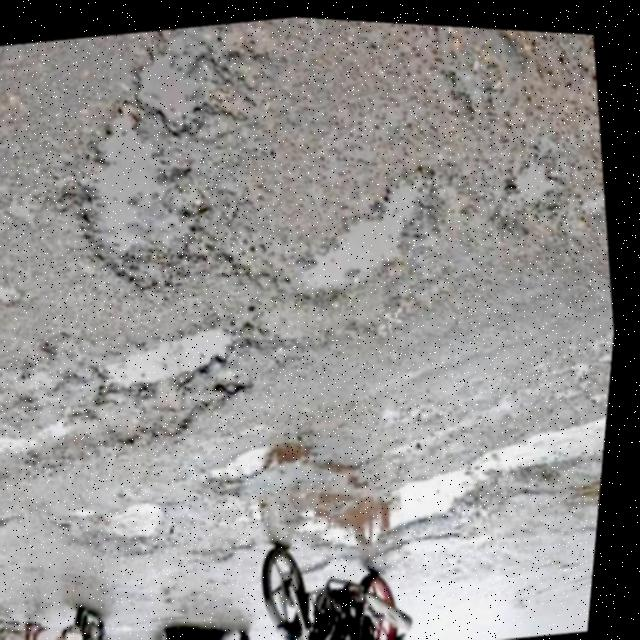Pothole: (51, 84, 222, 294), (280, 157, 451, 314), (295, 463, 492, 563), (100, 308, 251, 405), (121, 20, 226, 146), (485, 395, 614, 485), (213, 433, 320, 496), (93, 484, 183, 552), (497, 148, 575, 225), (0, 414, 88, 470), (249, 498, 275, 526), (584, 470, 609, 497), (0, 505, 6, 536)
